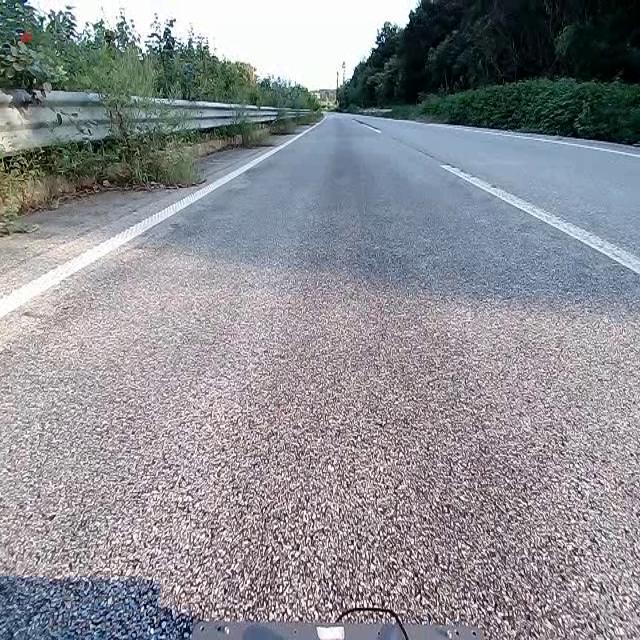Lane: (0, 118, 320, 325), (0, 123, 320, 320), (348, 113, 640, 278), (441, 164, 639, 274), (447, 126, 639, 158), (355, 120, 380, 133)
